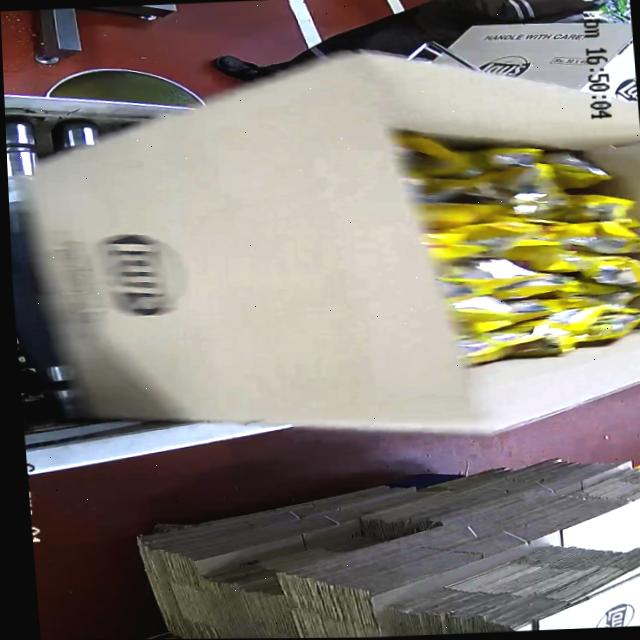SALTED: (388, 117, 640, 362)
